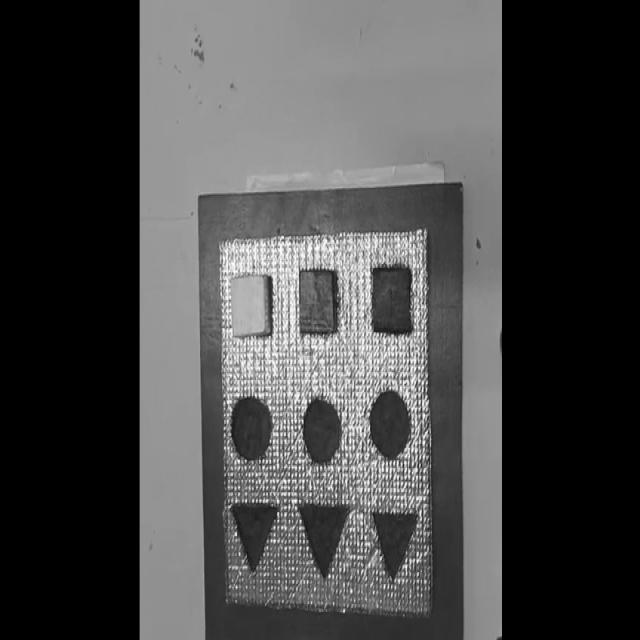bcube: (371, 263, 414, 334)
mtcircle: (368, 388, 411, 459), (301, 394, 343, 464), (230, 393, 273, 461)
mttriangle: (297, 499, 352, 580), (230, 500, 279, 573), (371, 509, 418, 582)
rcube: (298, 267, 336, 335)
wb: (216, 230, 432, 622)
ycube: (230, 272, 272, 340)
